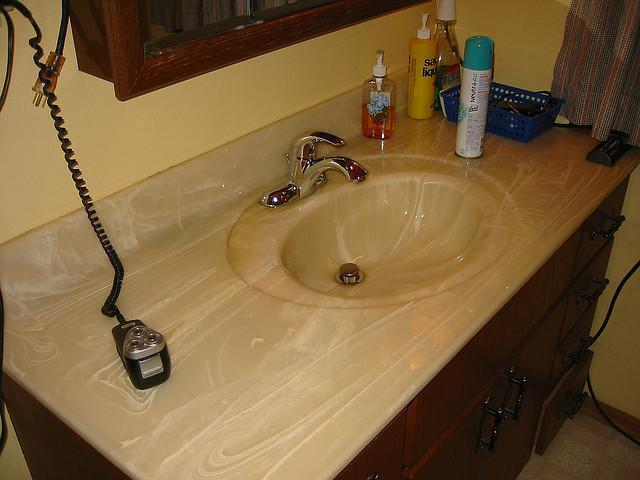Lavamanos: (241, 129, 515, 310)
